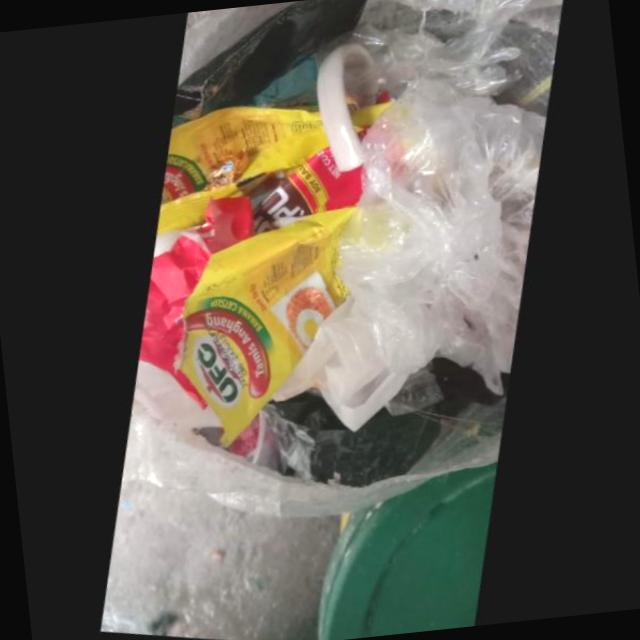goi_nhua_nho: (176, 208, 347, 449), (149, 107, 321, 235), (245, 148, 355, 235)
tui_ni_long: (268, 80, 538, 433)
